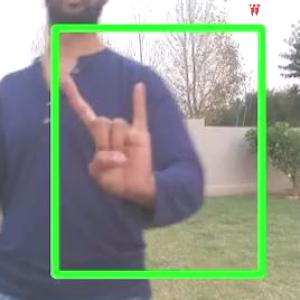takeoff-hand: (55, 48, 166, 221)
